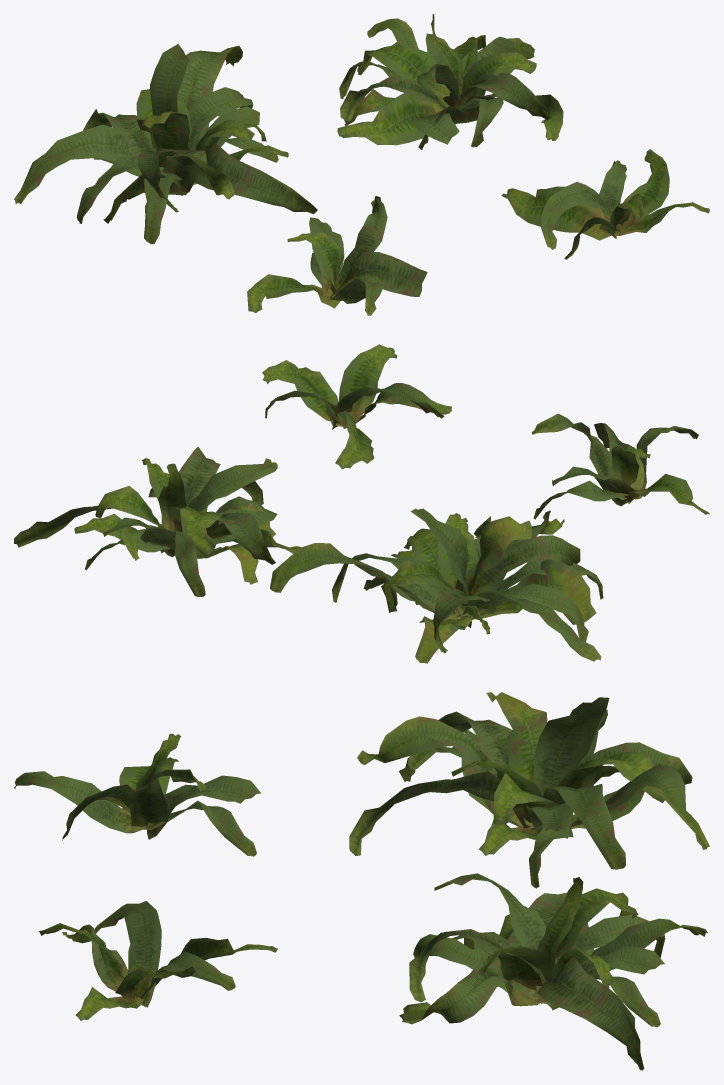
The model's file is fern_02_1k_lo.glb.
3 views of the same model, one above another, from view 1: azimuth 30°, elevation 25°; view 2: azimuth 150°, elevation 25°; view 3: azimuth 270°, elevation 25° (orthographic). The views are drawn at different scales.
Parts seen in each view (by area): view 1: fern_02_b, fern_02_c, fern_02_d, fern_02_a; view 2: fern_02_b, fern_02_c, fern_02_d, fern_02_a; view 3: fern_02_b, fern_02_c, fern_02_a, fern_02_d.
Part boxes in pixels (bbox=[...]): fern_02_b: bbox=[14, 44, 317, 244]; fern_02_c: bbox=[337, 14, 563, 149]; fern_02_d: bbox=[501, 149, 709, 259]; fern_02_a: bbox=[247, 196, 427, 315]; fern_02_b: bbox=[270, 508, 603, 663]; fern_02_c: bbox=[14, 447, 301, 596]; fern_02_d: bbox=[262, 344, 451, 469]; fern_02_a: bbox=[531, 413, 709, 519]; fern_02_b: bbox=[349, 692, 709, 888]; fern_02_c: bbox=[399, 873, 707, 1070]; fern_02_a: bbox=[14, 733, 261, 856]; fern_02_d: bbox=[39, 901, 277, 1020].
Size of the model in its own units: 1.97 by 0.4277 by 1.72.
Materials: 1 (1 with a texture image).
